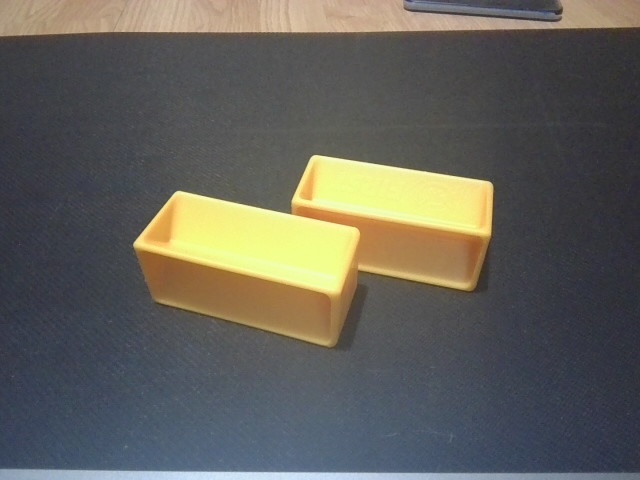YellowSample: (129, 186, 364, 353), (288, 150, 498, 292)
